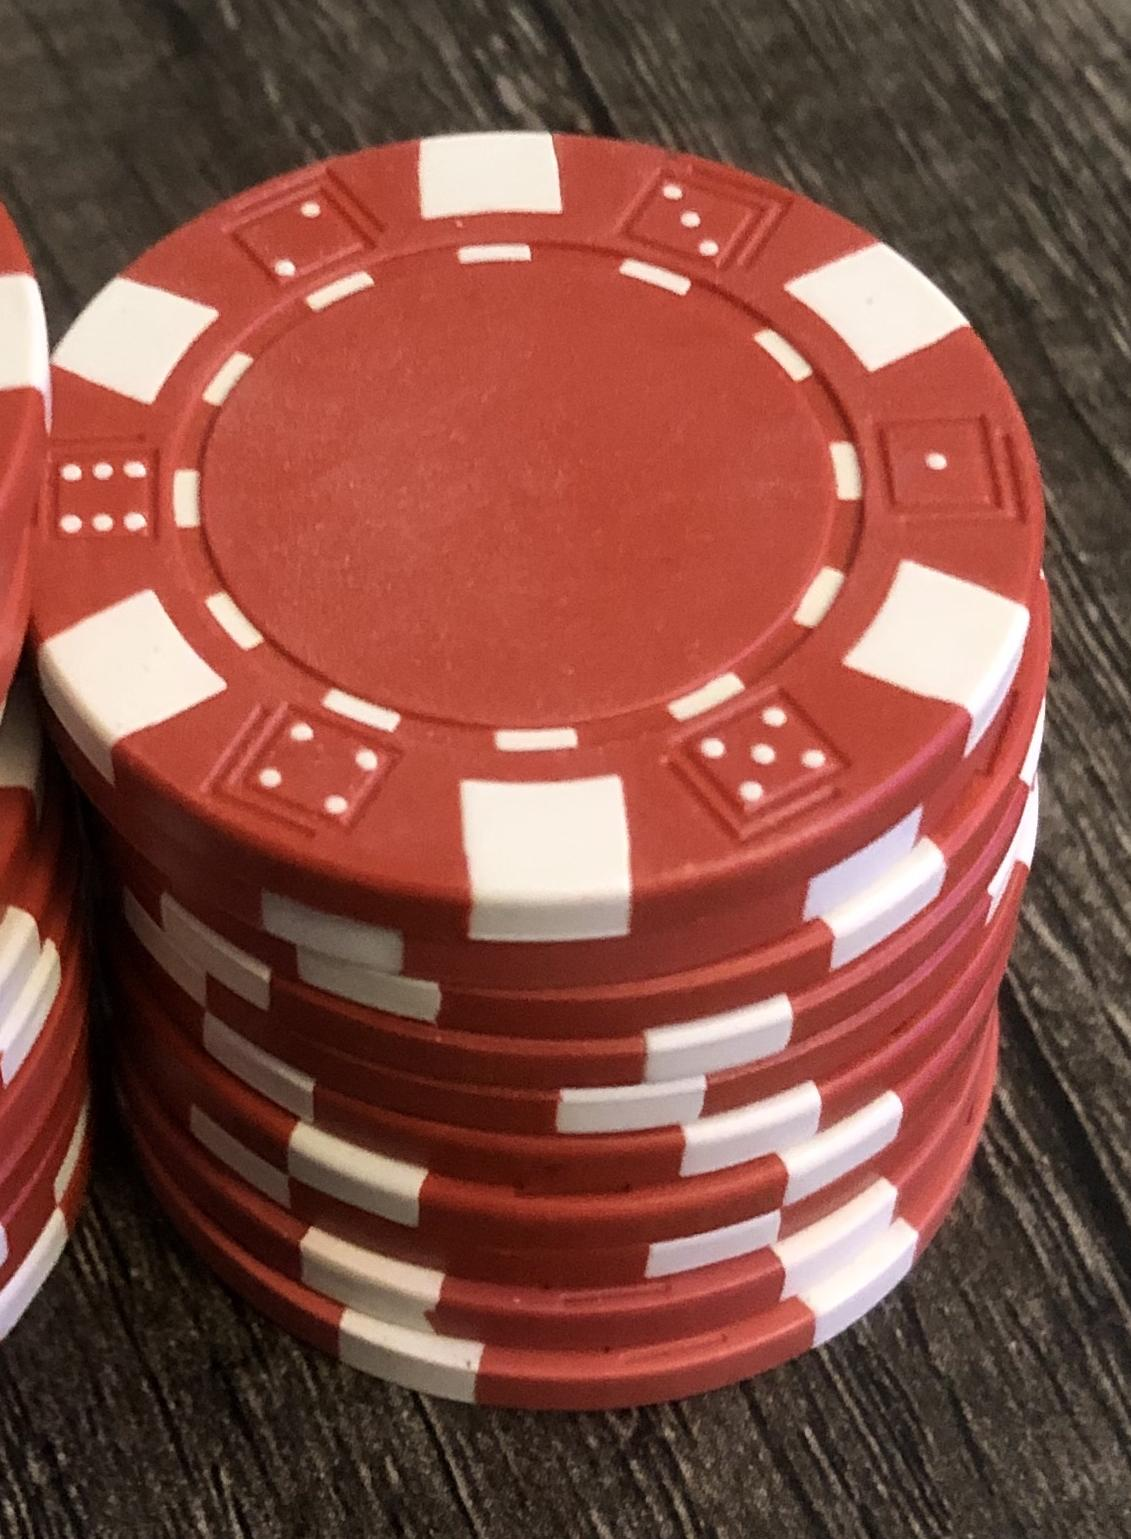Chip: (1, 1, 1131, 1539)
